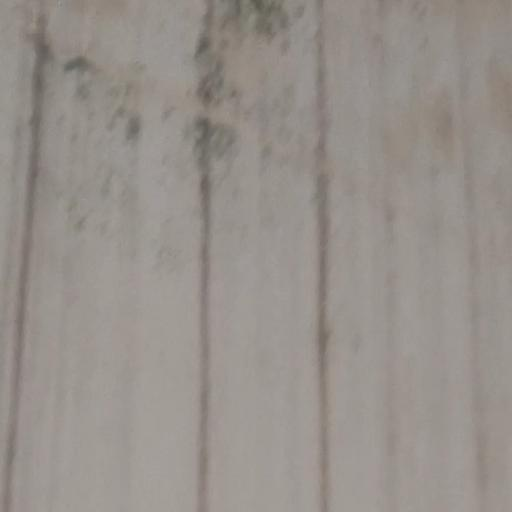stain: (168, 0, 344, 512), (372, 6, 512, 512), (0, 0, 49, 512), (54, 35, 156, 278)
